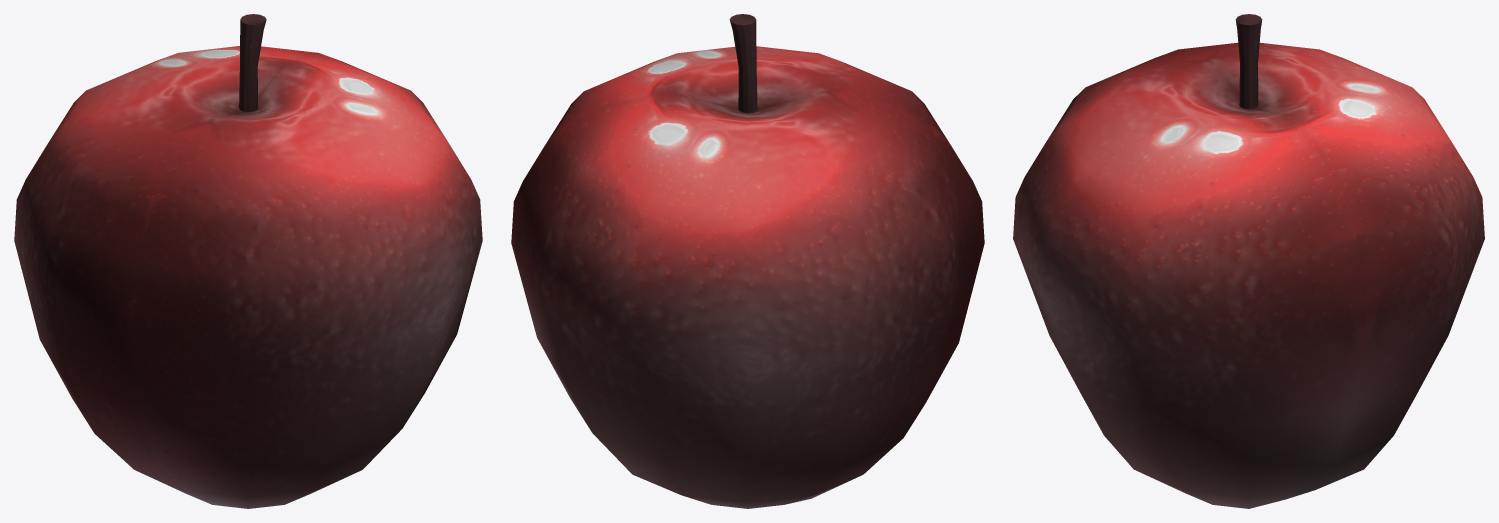
The model's file is BGMD_Apple.fbx.
3 renders of one model, left to right at view 1: azimuth 30°, elevation 25°; view 2: azimuth 150°, elevation 25°; view 3: azimuth 270°, elevation 25°, orthographic.
Parts seen in each view (by area): view 1: apple; view 2: apple; view 3: apple.
Part boxes in pixels (box(x1,y1,x2,y2)): apple: box(14, 14, 482, 508); apple: box(511, 14, 984, 508); apple: box(1013, 14, 1484, 508).
Bounding box in the file's own units: 6.23 × 6.72 × 6.23.
